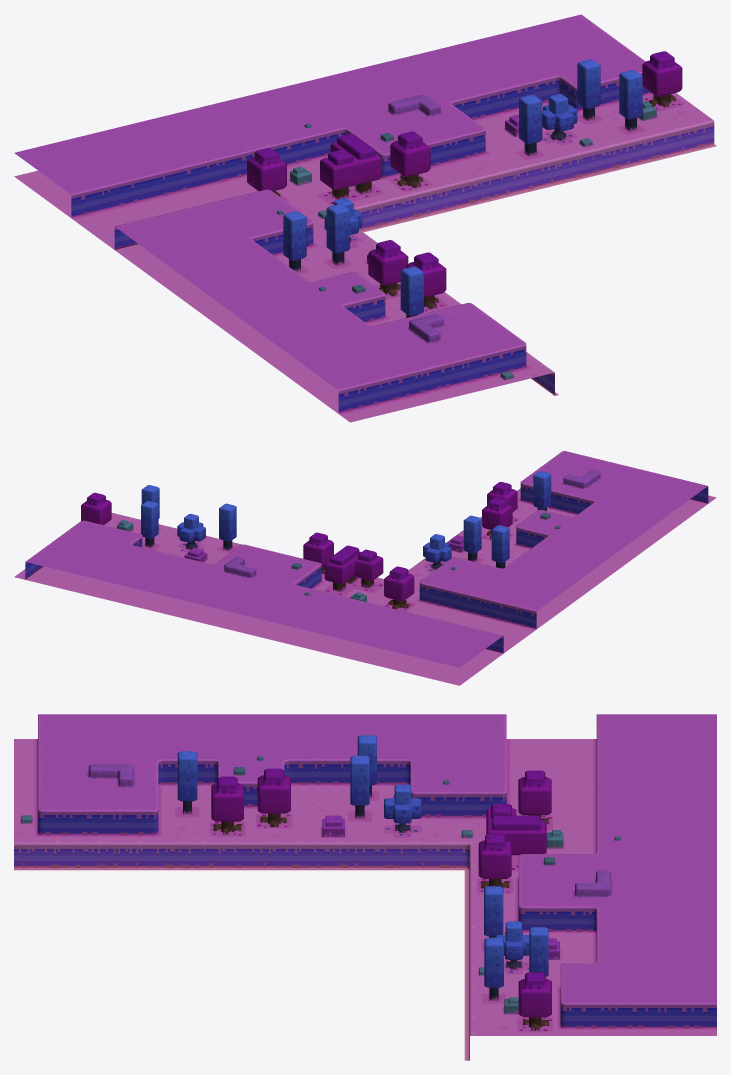
The model's file is C_forest2_out_RD.fbx.
3 renders of one model, top to bottom at view 1: azimuth 30°, elevation 25°; view 2: azimuth 150°, elevation 25°; view 3: azimuth 270°, elevation 25°, orthographic. The views are drawn at different scales.
Parts seen in each view (by area): view 1: C_forest2_out_RD; view 2: C_forest2_out_RD; view 3: C_forest2_out_RD.
Boxes of the visible parts, x1,y1,x2,y2 form: C_forest2_out_RD: (14,14,716,422); C_forest2_out_RD: (14,451,716,685); C_forest2_out_RD: (14,714,716,1060).
Size of the model in its own units: 117 by 15.31 by 117.
